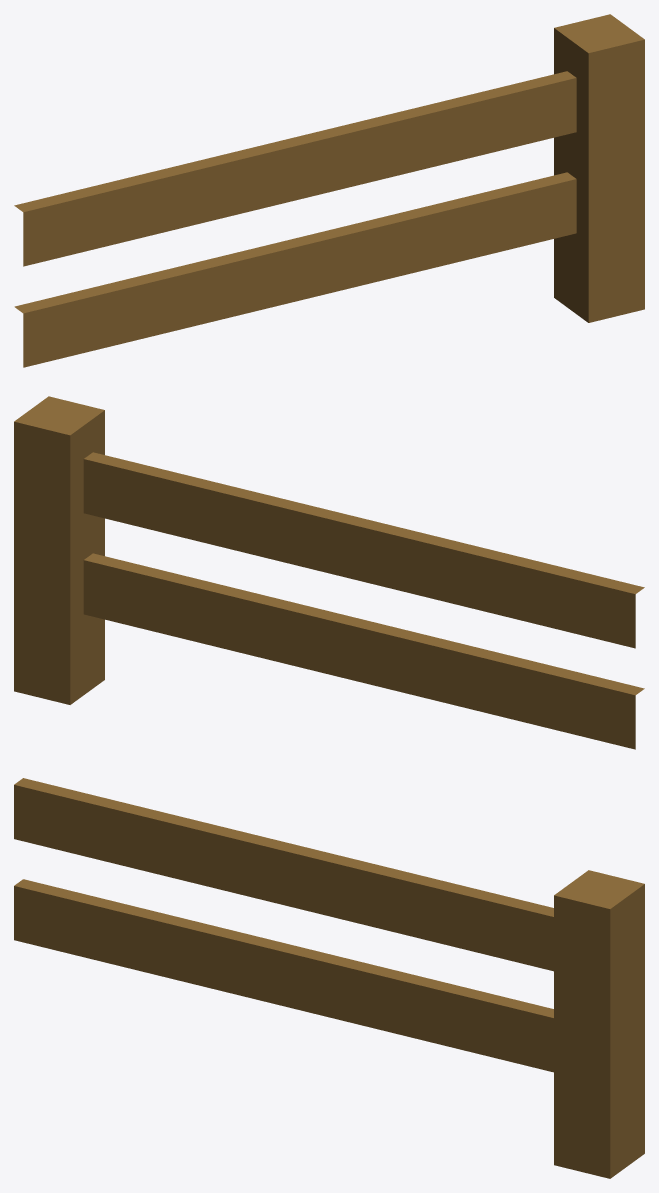
Rendered from Fence_Wood_02.gltf.
The picture shows the model from 3 angles, top to bottom: view 1: azimuth 30°, elevation 25°; view 2: azimuth 150°, elevation 25°; view 3: azimuth 330°, elevation 25°; orthographic projection.
Visible parts, largest first — view 1: SF_Prop_Fence_Wood_02; view 2: SF_Prop_Fence_Wood_02; view 3: SF_Prop_Fence_Wood_02.
Boxes of the visible parts, left/top/right/bottom form: SF_Prop_Fence_Wood_02: left=14, top=14, right=644, bottom=367; SF_Prop_Fence_Wood_02: left=14, top=396, right=644, bottom=749; SF_Prop_Fence_Wood_02: left=14, top=778, right=644, bottom=1178.
Bounding box in the file's own units: 0.0522 × 0.0221 × 0.00515.
1 material, 1 textured.
